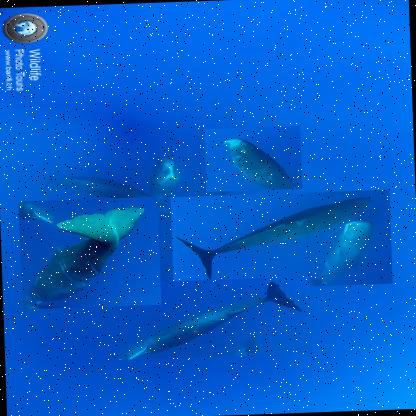sperm_whale: (170, 188, 392, 291), (115, 275, 312, 360), (17, 196, 161, 310), (22, 149, 169, 212), (204, 125, 302, 192)
